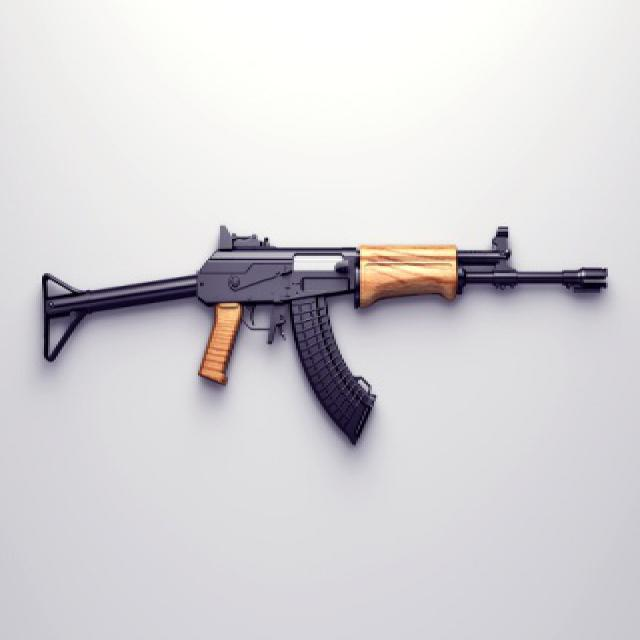long weapon: (26, 208, 614, 447)
